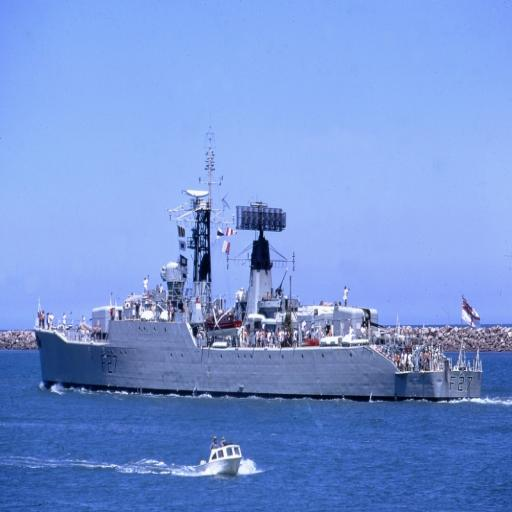Fragata: (32, 195, 487, 404)
